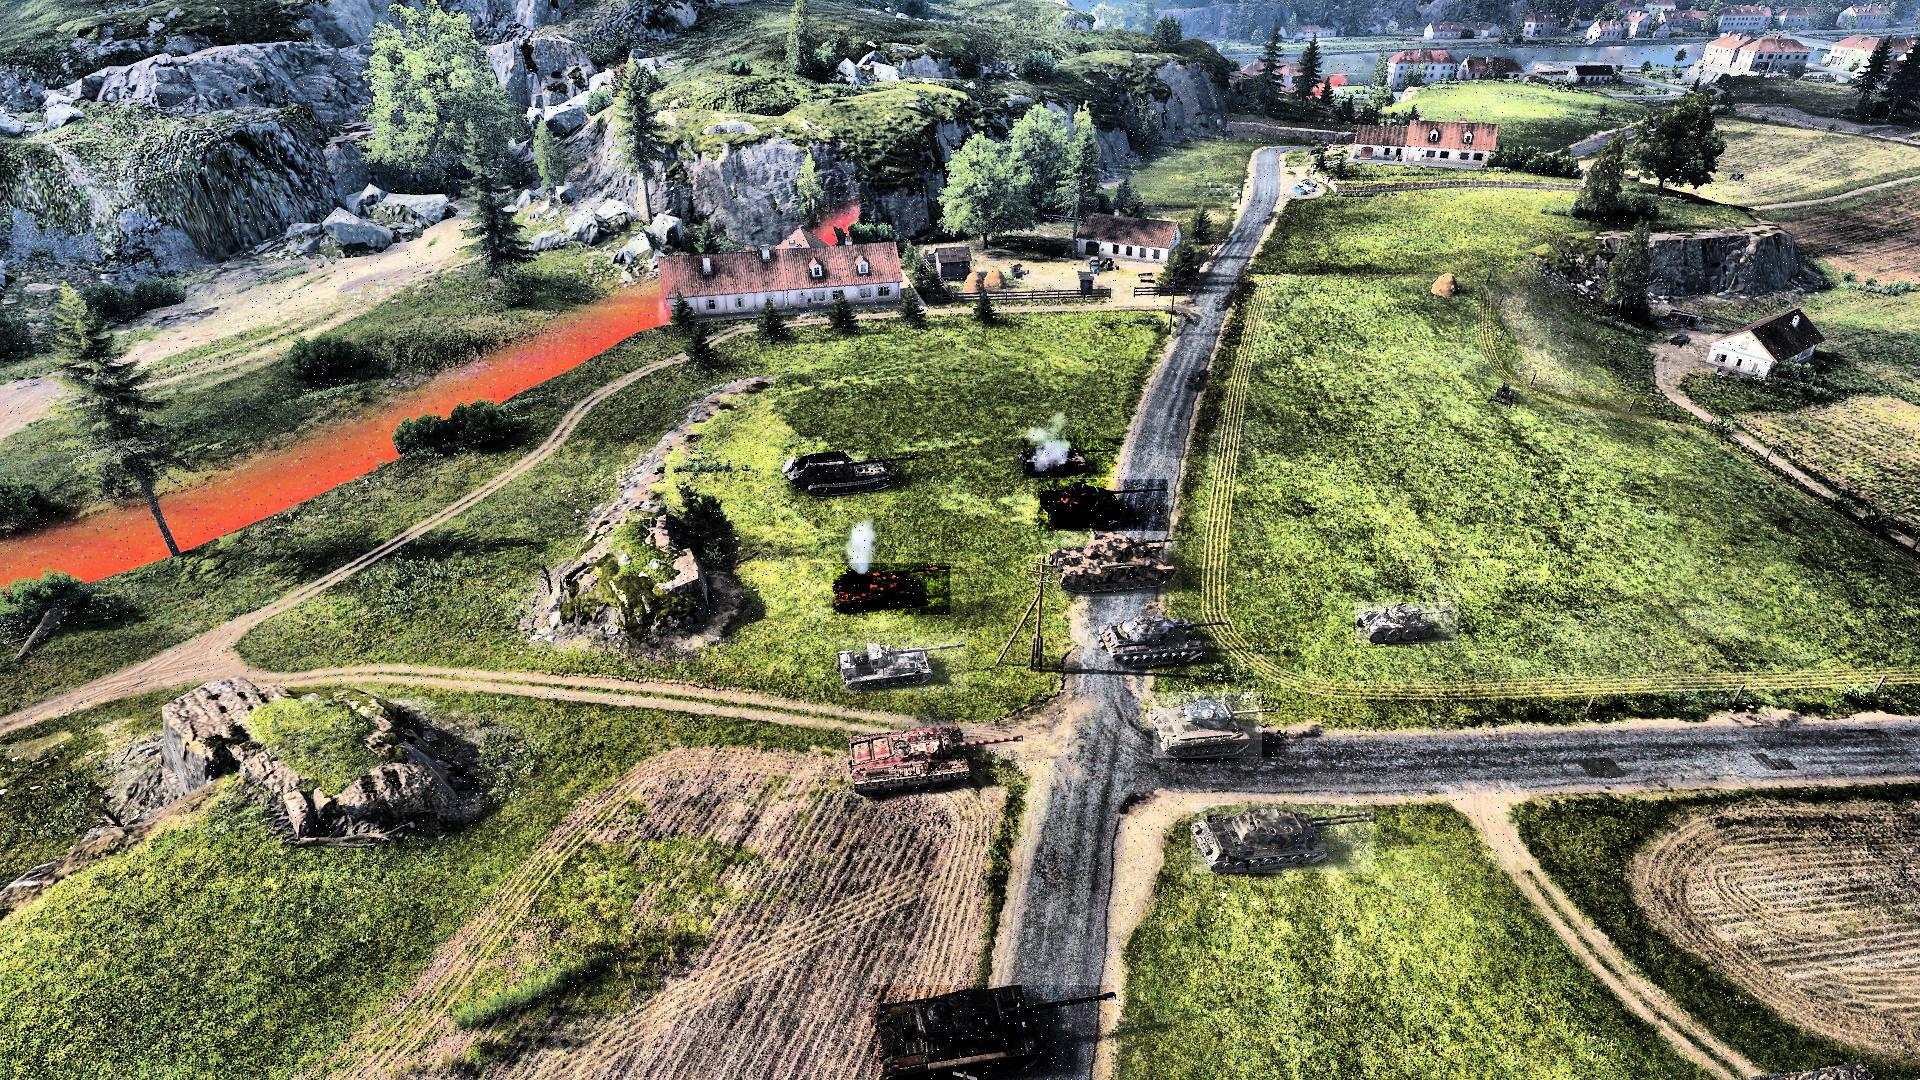military-vehicle: (872, 985, 1114, 1080), (845, 725, 1025, 798), (1192, 803, 1375, 873), (1054, 531, 1182, 600), (840, 633, 968, 694), (1153, 692, 1262, 758), (1100, 611, 1226, 665), (1038, 480, 1168, 531), (783, 446, 916, 493), (833, 563, 949, 615), (1356, 601, 1458, 644), (1023, 438, 1120, 479)
